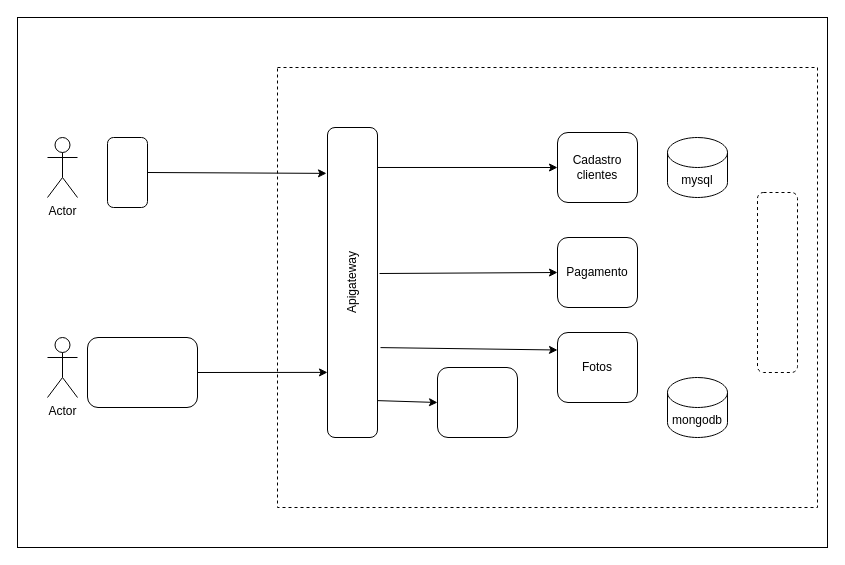
Image size: 845x565. Some labels were removed from this diagram. Here are the shapes that lost their labels. From the top down, the centre of each, then its label:
At [127,172]: "Mobile".
At [777,282]: "Mensageria".
At [142,372]: "Web".
